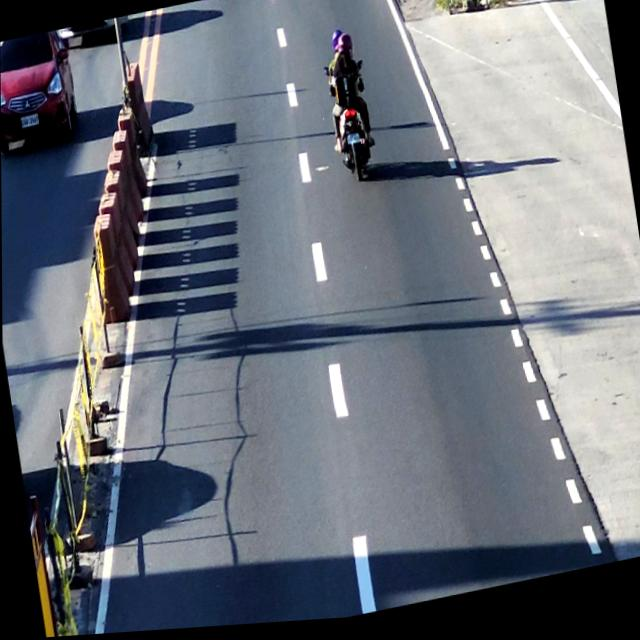License-Plate: (344, 132, 362, 154)
Motorcycle: (318, 30, 383, 195)
